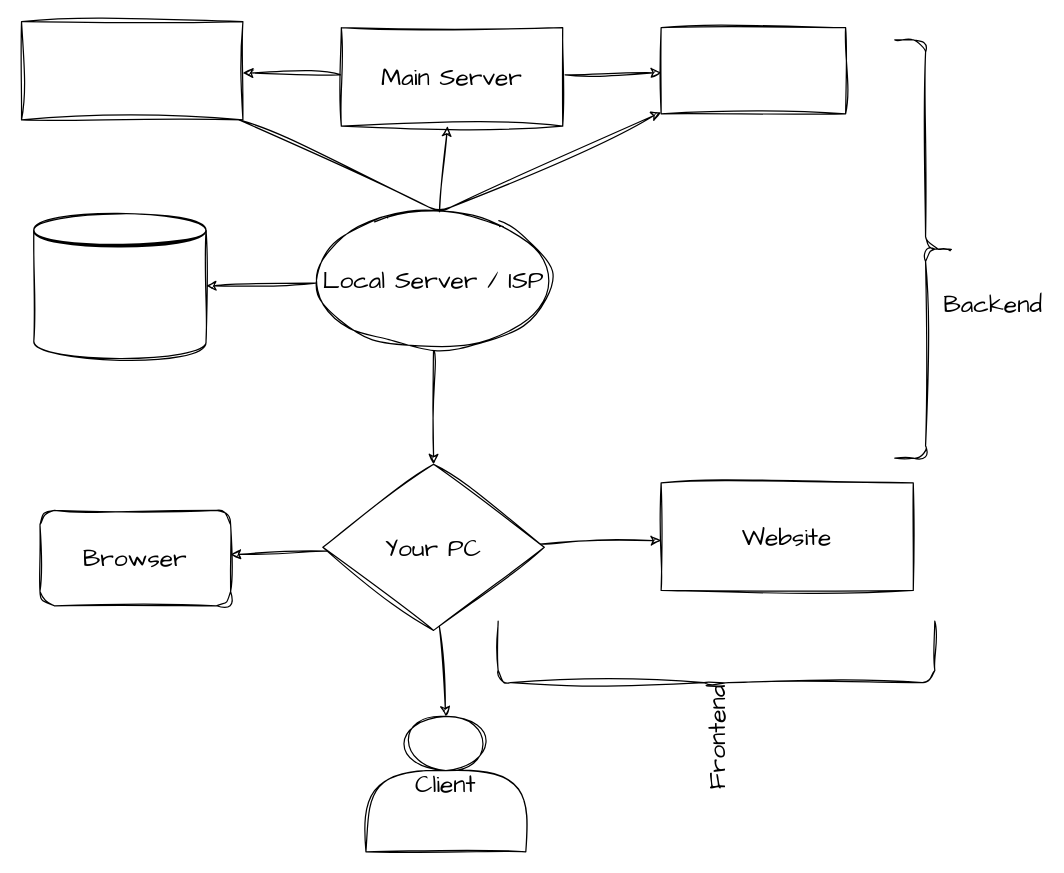
This 1064x873 diagram has some shape labels left out. The box of each missing label's shape, as (x1, y1, x2, y2) in pixels:
Backup Server: (20, 20, 243, 120)
Database: (33, 211, 206, 360)
Reverse Proxy: (660, 26, 846, 114)
